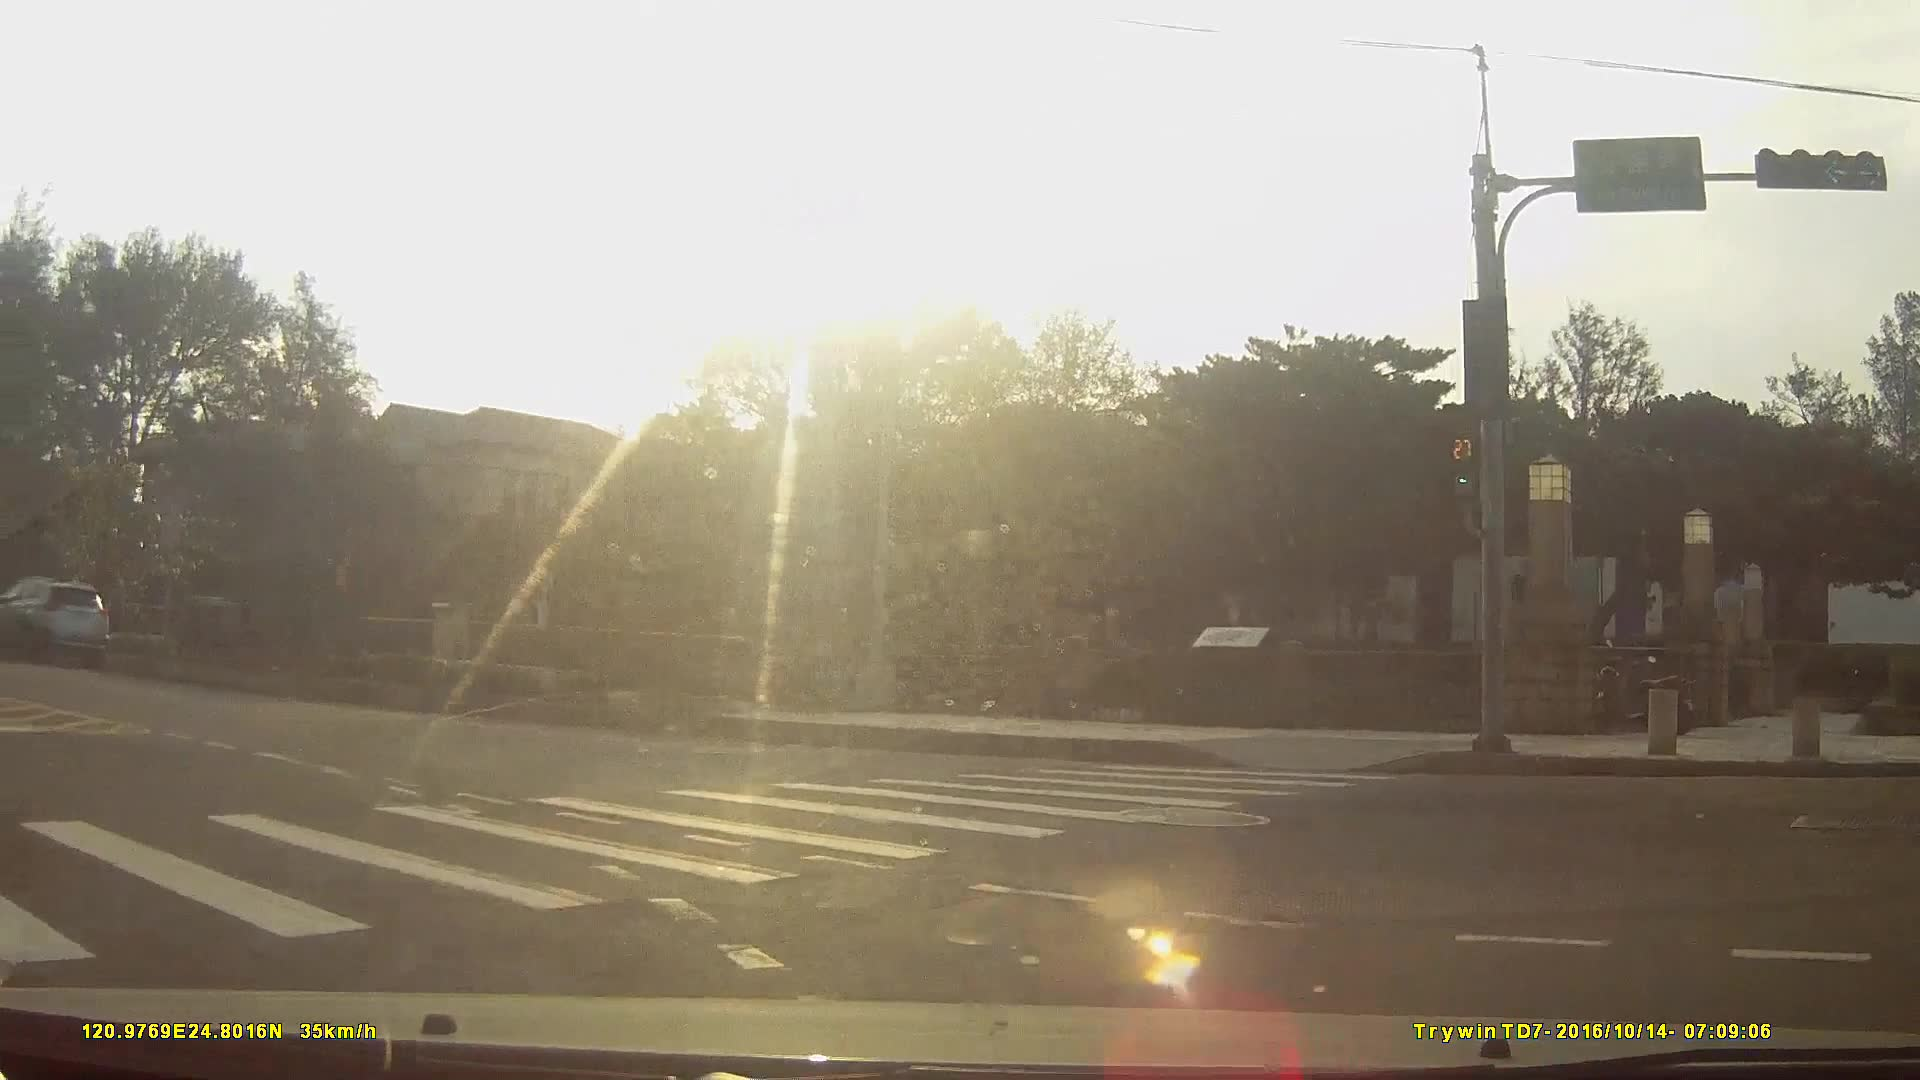vehicle: (0, 574, 108, 665)
